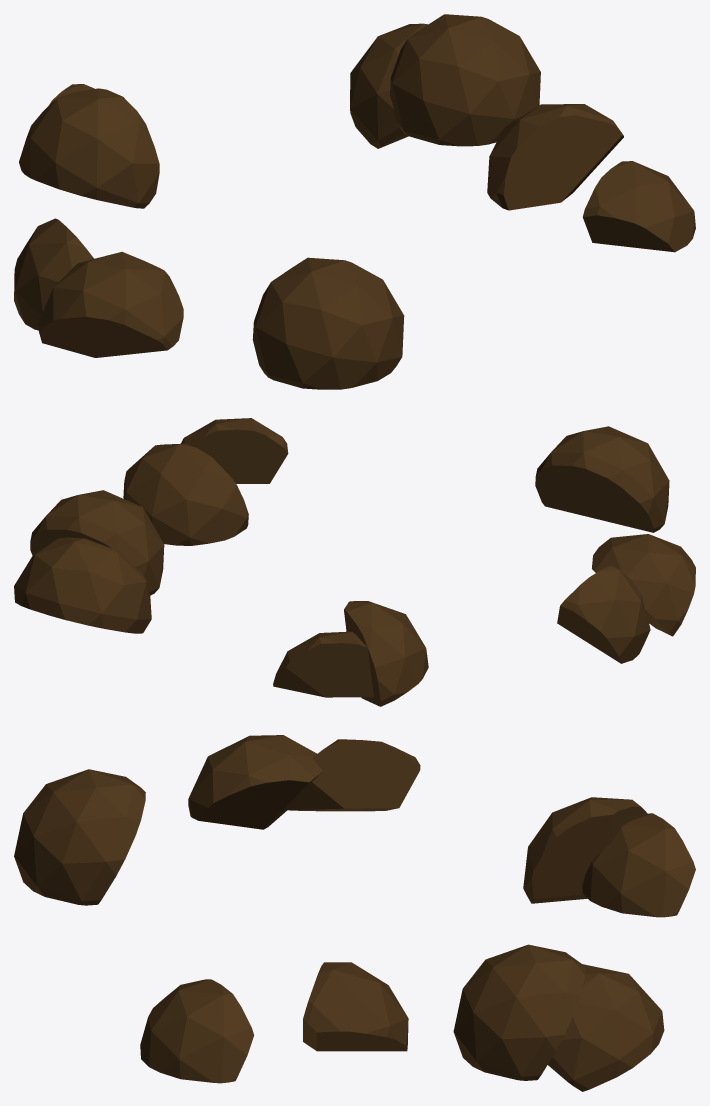
File: brownie.glb
3 views of the same model, one above another, from view 1: azimuth 30°, elevation 25°; view 2: azimuth 150°, elevation 25°; view 3: azimuth 270°, elevation 25° (orthographic). The views are drawn at different scales.
Visible parts, largest first — view 1: brownie; view 2: brownie; view 3: brownie.
Part boxes in pixels (x1=…): brownie: x1=14, y1=14, x2=695, y2=389; brownie: x1=14, y1=418, x2=695, y2=706; brownie: x1=14, y1=735, x2=695, y2=1091.
Bounding box in the file's own units: 0.1188 × 0.0227 × 0.1128.
